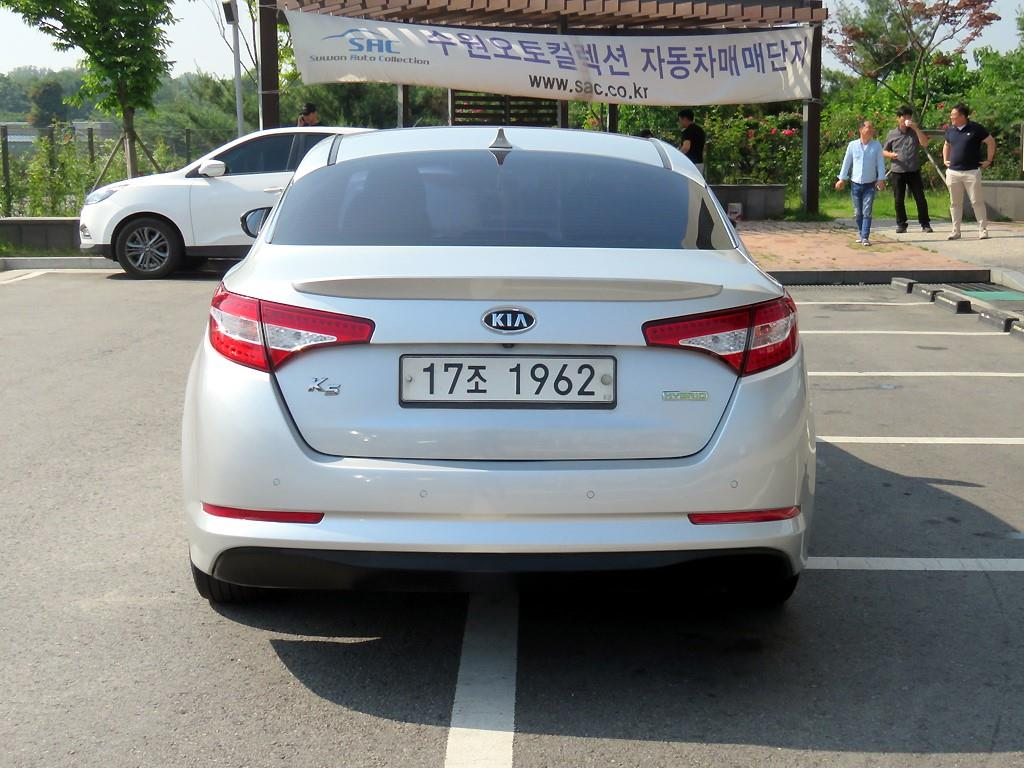plate: (402, 357, 614, 401)
